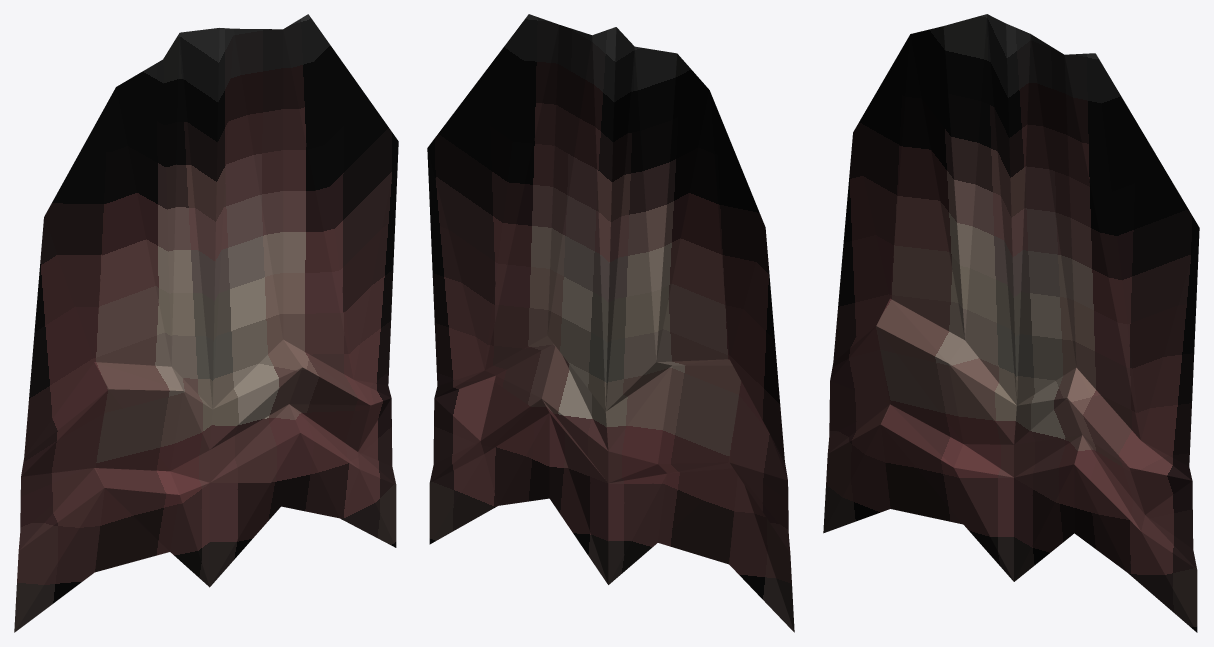
The model's file is flag_g.obj.
3 renders of one model, left to right at view 1: azimuth 30°, elevation 25°; view 2: azimuth 150°, elevation 25°; view 3: azimuth 330°, elevation 25°, orthographic. The views are drawn at different scales.
Bounding box in the file's own units: 240 × 344 × 27.25.
1 material, 1 textured.
